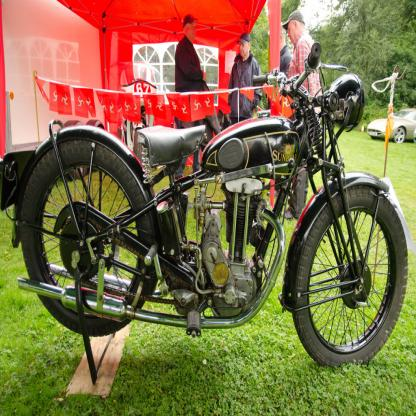Car: (367, 110, 416, 145), (414, 130, 416, 146)
